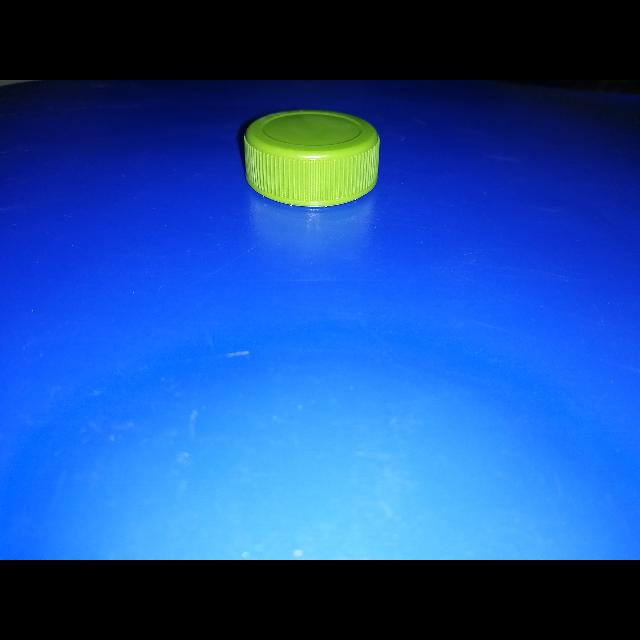plastic_bottle_cap: (241, 108, 381, 208)
